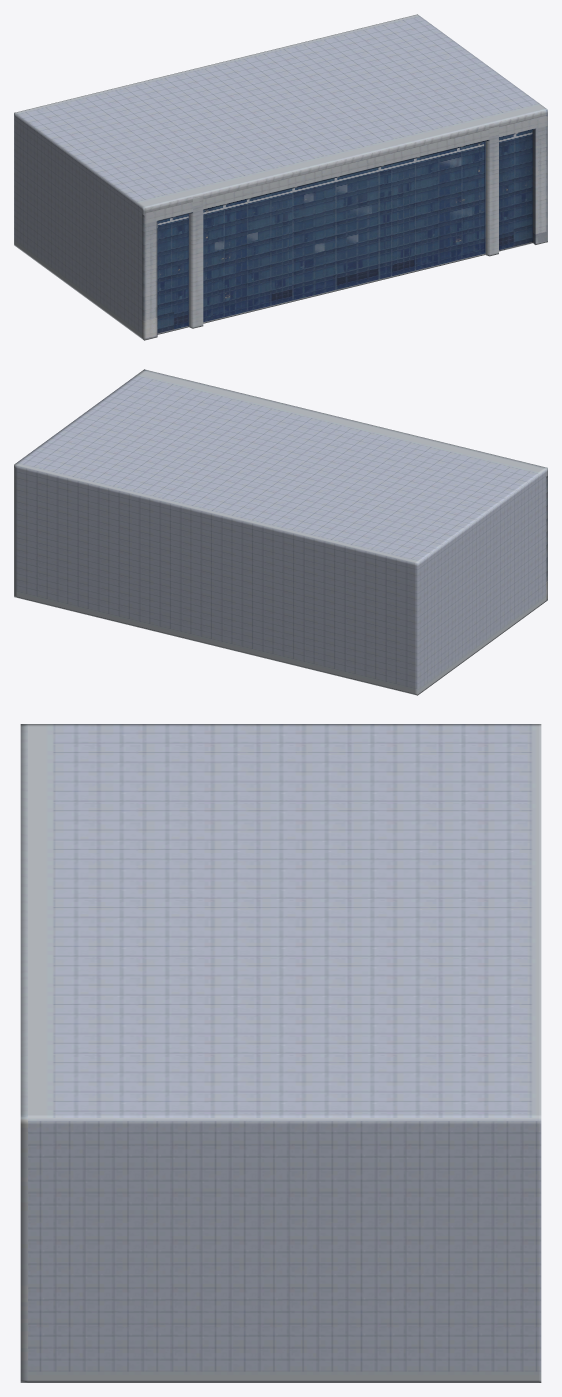
File: 00_03_outside_building_foreground_a.dae
The picture shows the model from 3 angles, top to bottom: view 1: azimuth 30°, elevation 25°; view 2: azimuth 150°, elevation 25°; view 3: azimuth 270°, elevation 25°; orthographic projection. The views are drawn at different scales.
Parts seen in each view (by area): view 1: Box002-Pivot; view 2: Box002-Pivot; view 3: Box002-Pivot.
Boxes of the visible parts, x1=… form: Box002-Pivot: x1=14, y1=14, x2=547, y2=340; Box002-Pivot: x1=14, y1=369, x2=547, y2=695; Box002-Pivot: x1=20, y1=724, x2=541, y2=1382.
Bounding box in the file's own units: 95.47 × 29.93 × 53.33.
